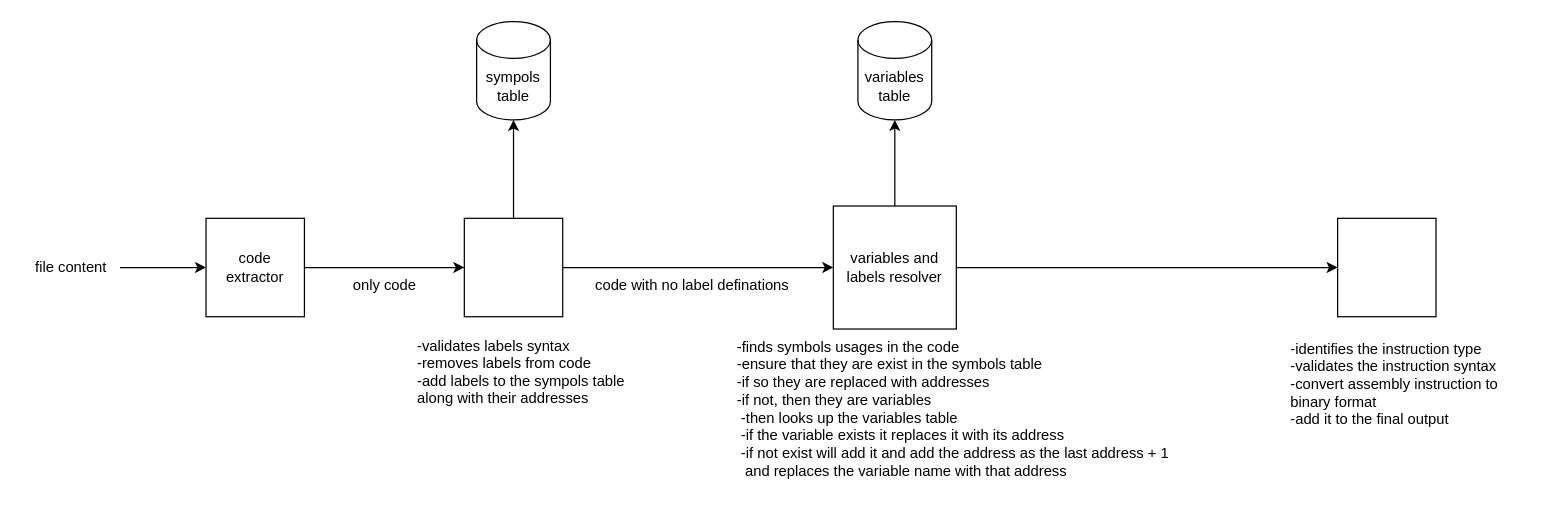
The diagram is 1555 pixels wide and 510 high, and some of its shapes have lost their labels. Each missing label, with the centre of its shape:
instructions parser: (1386,267)
labels extractor: (513,267)
